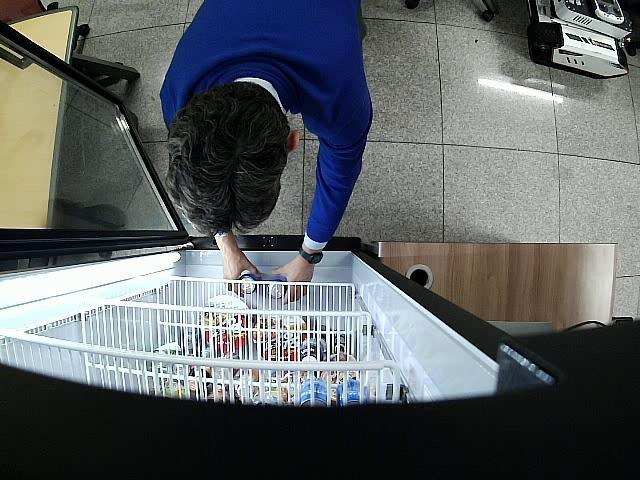13_pocariSweat: (267, 276, 288, 300), (238, 274, 259, 295)
